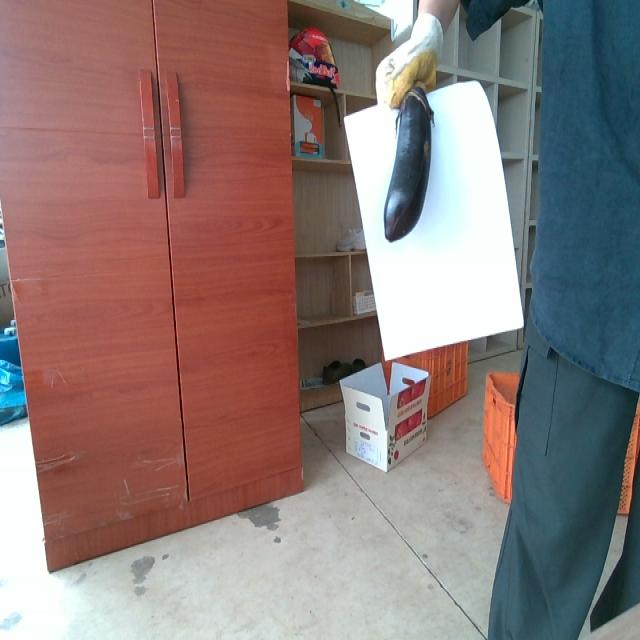Egg plant: (384, 88, 433, 241)
